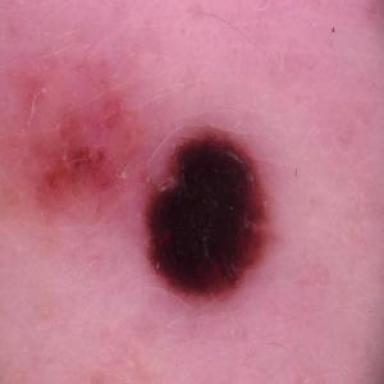Melanoma: (146, 127, 269, 297)
